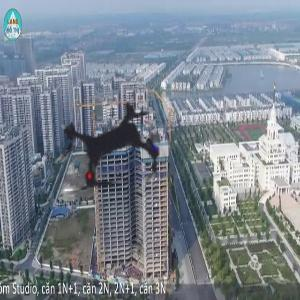drone: (18, 60, 206, 248)
